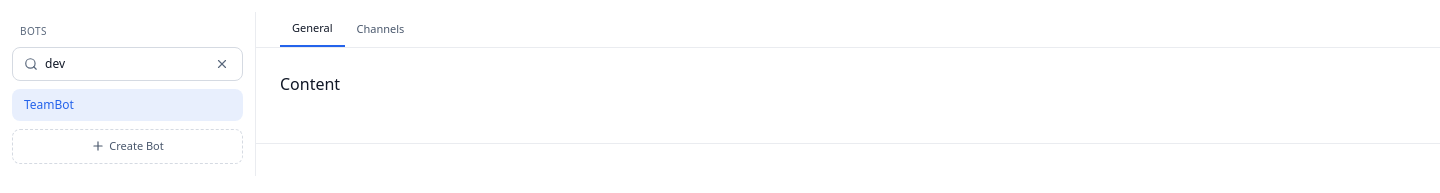
BotTabShell › search filter › shows the clear button when a query is present and clears on click
The image size is (1440, 193).
Click the button named "Clear search" at (222, 64), box [213,55,231,73]
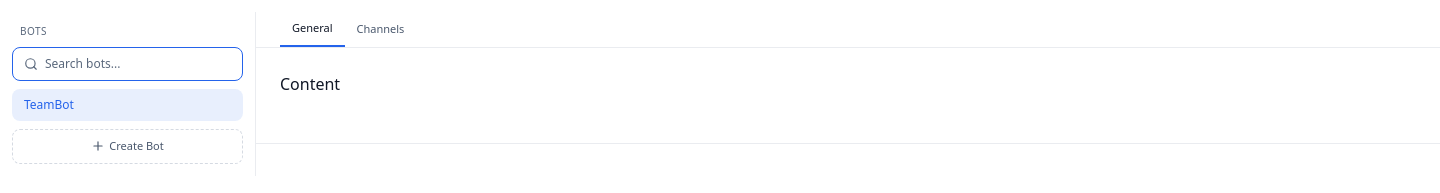
Expected: the field with placeholder "Search bots..." is empty, [12,47,243,81]
